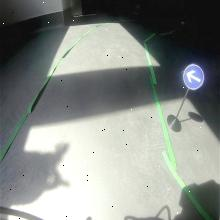left: (183, 62, 204, 90)
